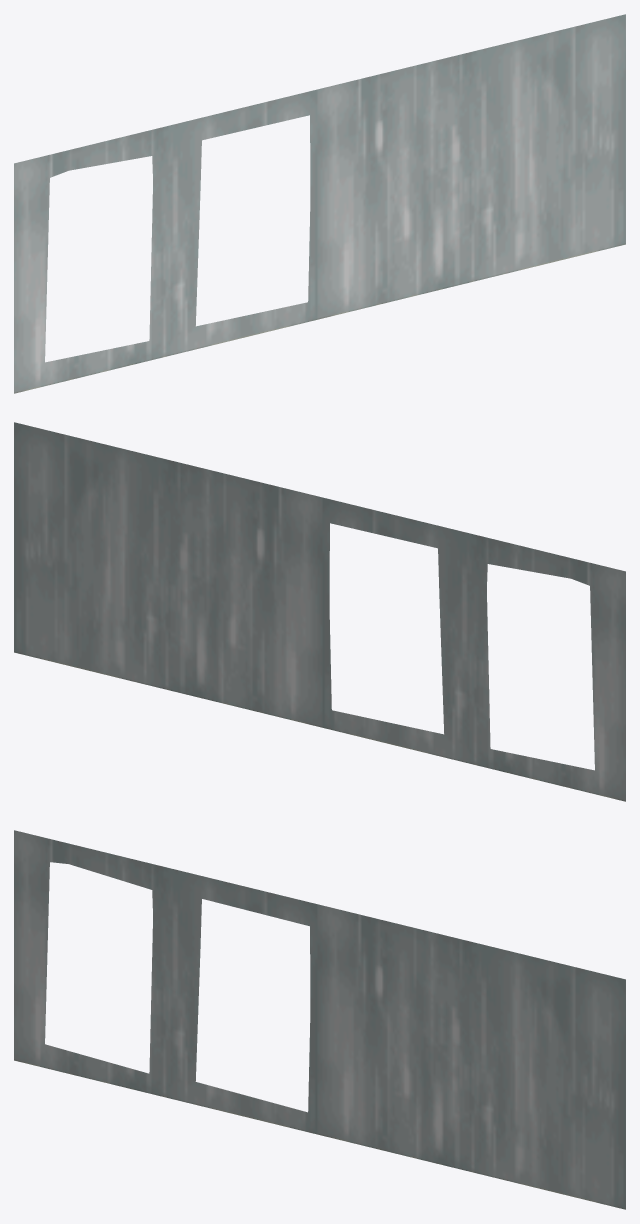
The model's file is W_AI2r_xxoo_1327.glb.
3 renders of one model, top to bottom at view 1: azimuth 30°, elevation 25°; view 2: azimuth 150°, elevation 25°; view 3: azimuth 330°, elevation 25°, orthographic.
Parts seen in each view (by area): view 1: polySurfaceShape1272; view 2: polySurfaceShape1272; view 3: polySurfaceShape1272.
Boxes of the visible parts, x1,y1,x2,y2 form: polySurfaceShape1272: [14, 14, 625, 393]; polySurfaceShape1272: [14, 422, 625, 801]; polySurfaceShape1272: [14, 830, 625, 1209].
Bounding box in the file's own units: 0.9692 × 0.3486 × 1.52e-08.
Materials: 1 (1 with a texture image).
